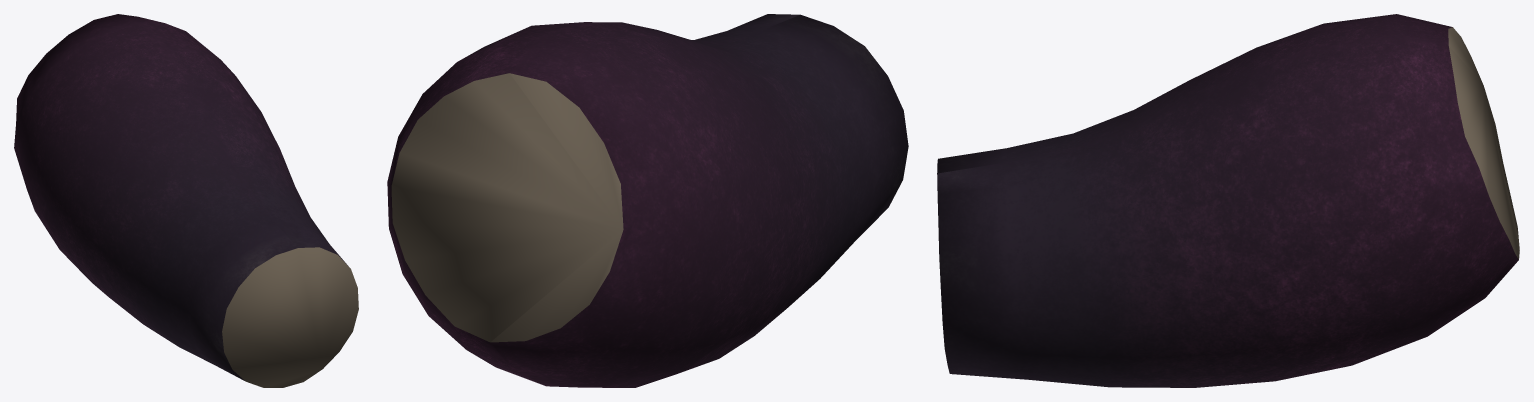
The model's file is EggplantCut01.fbx.
3 views of the same model, side by side, from view 1: azimuth 30°, elevation 25°; view 2: azimuth 150°, elevation 25°; view 3: azimuth 270°, elevation 25° (orthographic). The views are drawn at different scales.
Parts seen in each view (by area): view 1: Eggplant; view 2: Eggplant; view 3: Eggplant.
Part boxes in pixels (<box>): Eggplant: <box>14,14,358,387</box>; Eggplant: <box>387,14,908,387</box>; Eggplant: <box>937,14,1519,387</box>.
Bounding box in the file's own units: 1185 × 1353 × 2059.
